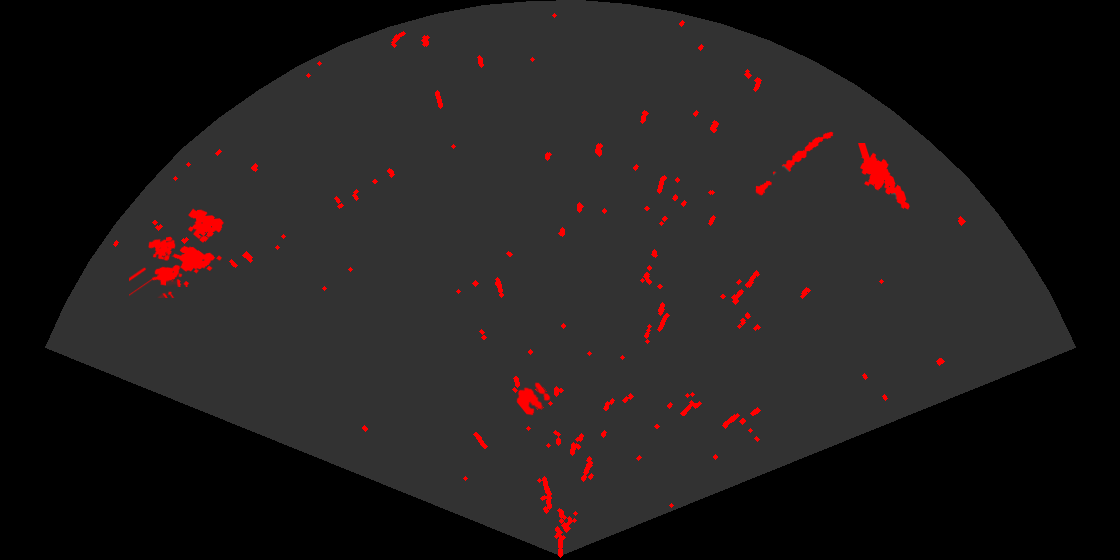ball: (515, 381, 552, 417)
cage: (166, 207, 225, 287), (129, 237, 187, 298)
chain: (754, 130, 835, 197)
frogman: (857, 143, 911, 211)
